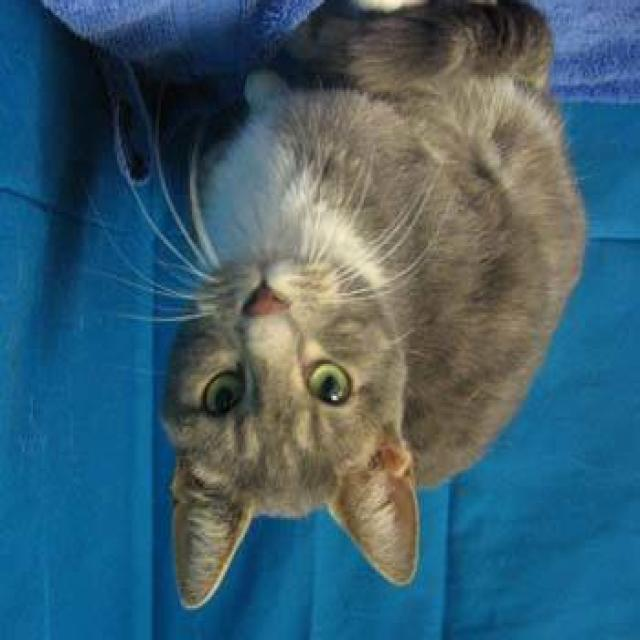Kucing: (113, 5, 598, 621)
